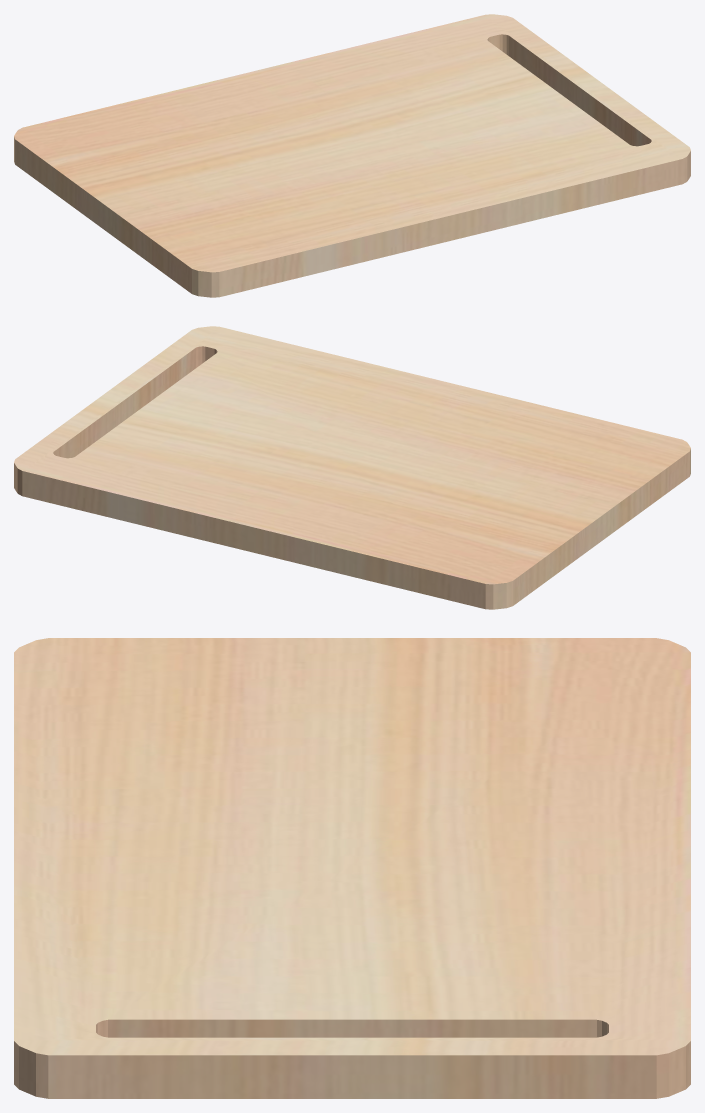
File: chopping_board.glb
The picture shows the model from 3 angles, top to bottom: view 1: azimuth 30°, elevation 25°; view 2: azimuth 150°, elevation 25°; view 3: azimuth 270°, elevation 25°; orthographic projection. The views are drawn at different scales.
Parts seen in each view (by area): view 1: Plane; view 2: Plane; view 3: Plane.
Boxes of the visible parts, x1,y1,x2,y2 form: Plane: [14, 14, 690, 297]; Plane: [14, 326, 690, 609]; Plane: [14, 638, 690, 1098].
Bounding box in the file's own units: 7.03 × 0.3419 × 4.82.
Materials: 1 (1 with a texture image).
